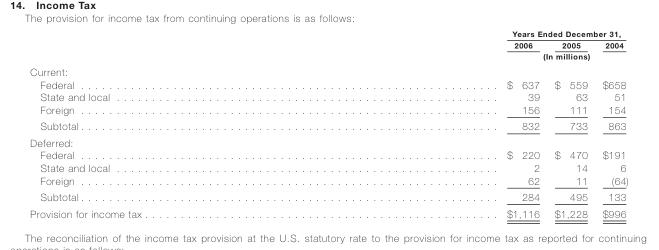table: (29, 28, 627, 218)
table column: (29, 28, 323, 218), (323, 28, 546, 218), (546, 28, 594, 218), (594, 28, 627, 218)
table column header: (29, 28, 627, 63)
table projected row header: (29, 63, 627, 77), (29, 134, 627, 148)
table row: (29, 117, 627, 134), (29, 188, 627, 204), (29, 173, 627, 188), (29, 63, 627, 77), (29, 103, 627, 117), (29, 134, 627, 148), (29, 204, 627, 218), (29, 50, 627, 63), (29, 77, 627, 90), (29, 90, 627, 103), (29, 148, 627, 161), (29, 38, 627, 50), (29, 161, 627, 173), (29, 28, 627, 38)
table spanning cell: (323, 50, 627, 63), (323, 28, 627, 38)
